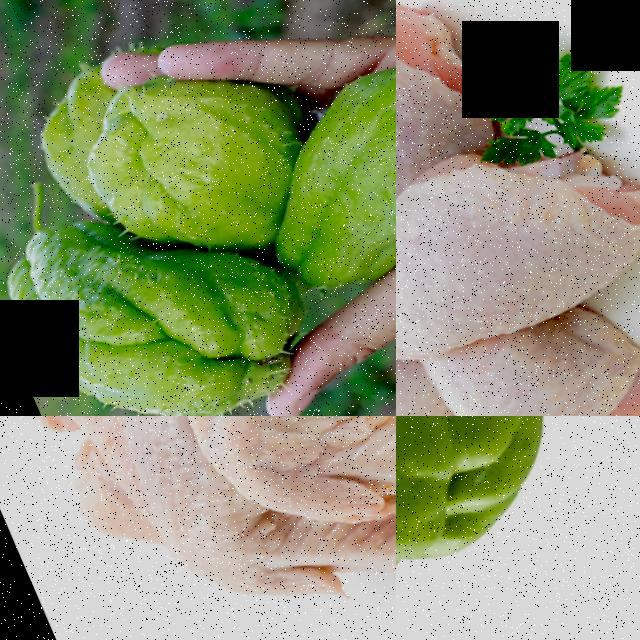chayote: (28, 220, 288, 416), (396, 416, 619, 640), (80, 28, 295, 241), (262, 2, 396, 290)
chicken thigh: (396, 104, 640, 416), (396, 0, 519, 292)
chicken wing: (69, 416, 396, 640)
